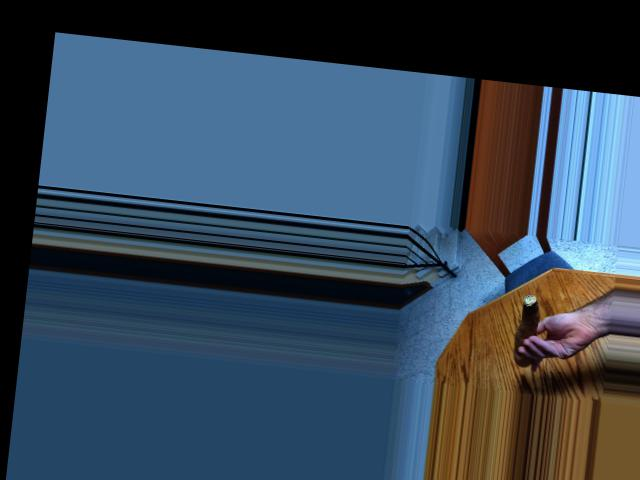sweet_potato: (505, 301, 539, 362)
